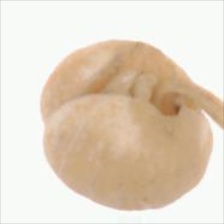L2: (38, 39, 213, 211)
